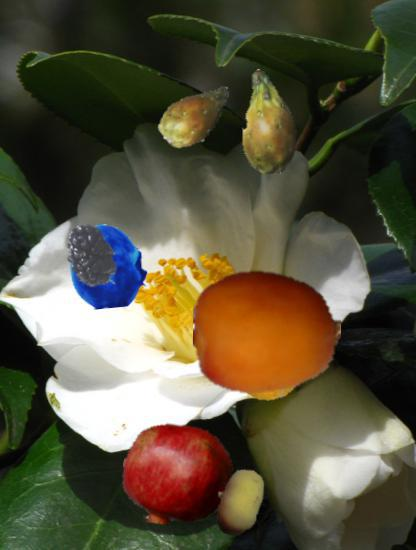Apricot: (193, 257, 342, 406)
Cactus: (217, 69, 322, 174), (157, 75, 239, 157)
Huckleberry: (67, 224, 152, 309)
Mandarine: (233, 325, 311, 403)
Mulberry: (47, 224, 122, 299)
Peach: (206, 468, 275, 537)
Pomegranate: (122, 420, 234, 532)
